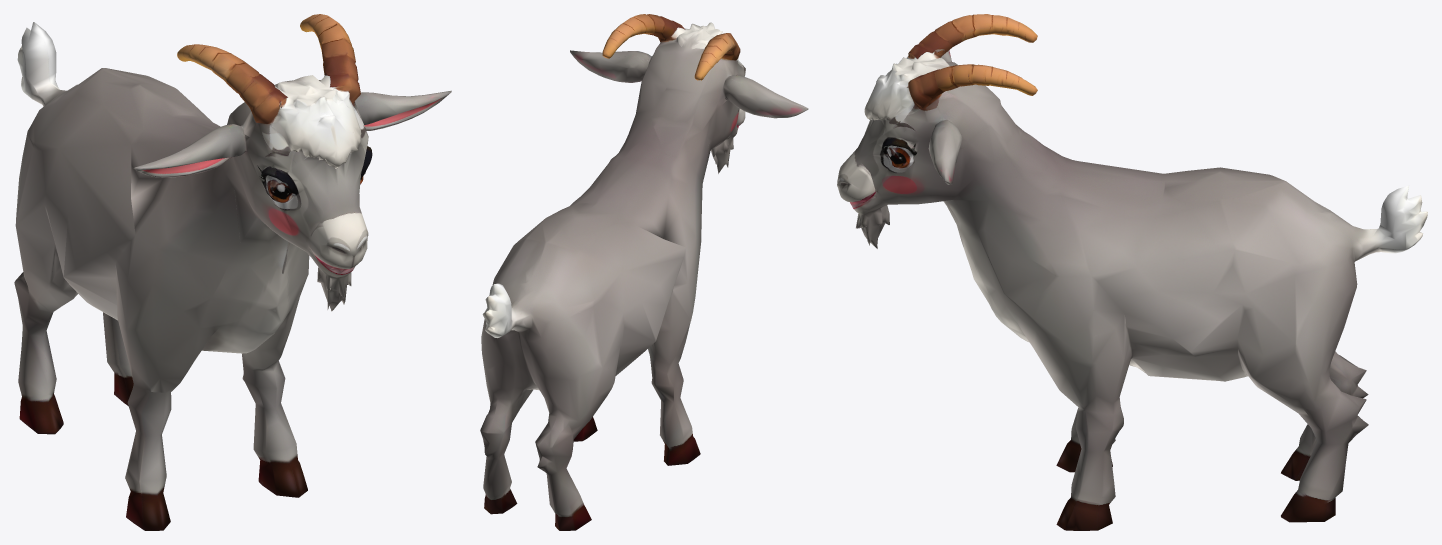
The model's file is goat.glb.
3 renders of one model, left to right at view 1: azimuth 30°, elevation 25°; view 2: azimuth 150°, elevation 25°; view 3: azimuth 270°, elevation 25°, orthographic. The views are drawn at different scales.
Size of the model in its own units: 1.05 by 1.62 by 1.91.
Materials: 1 (1 with a texture image).
